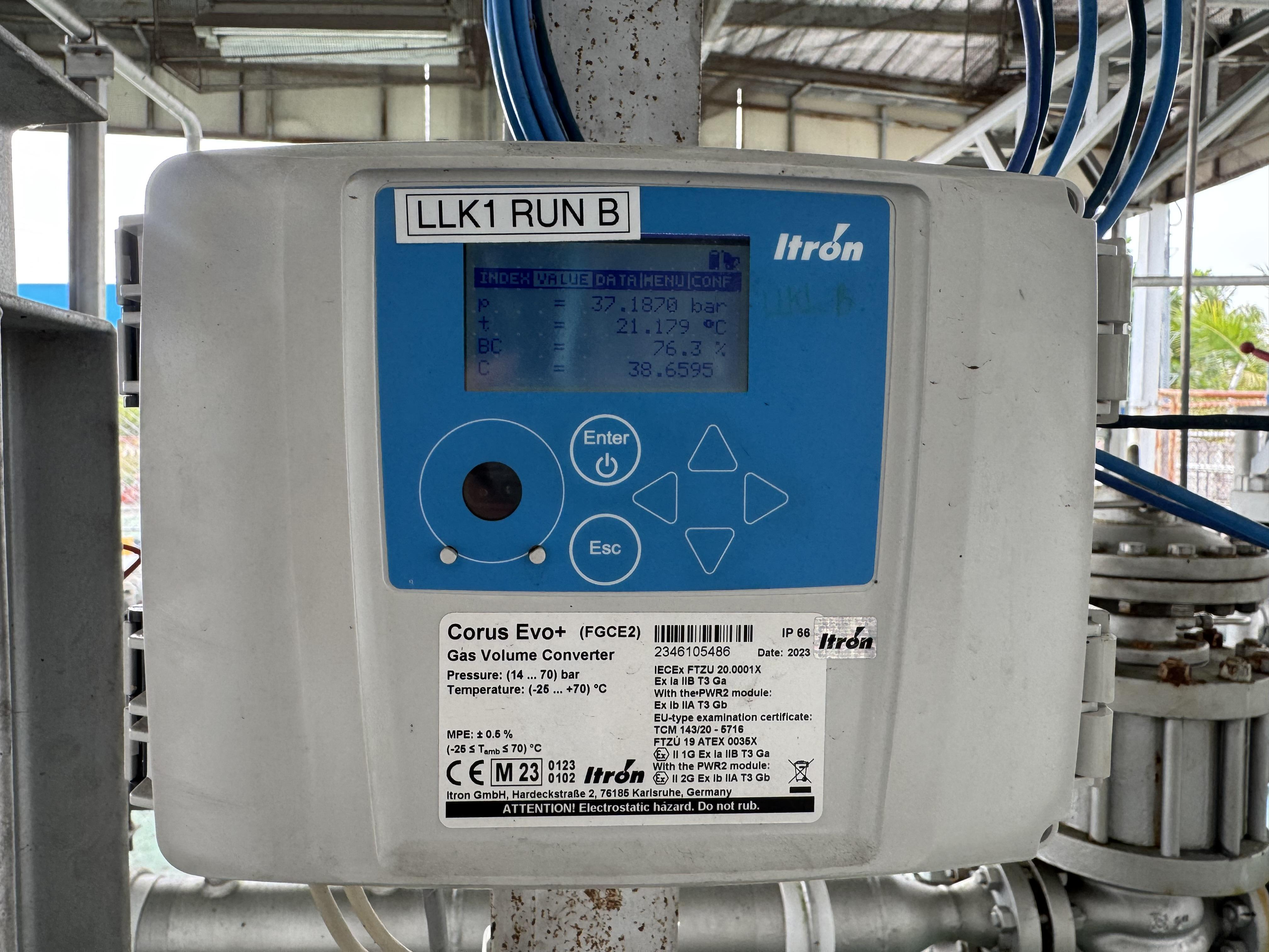digital_screen: (464, 234, 750, 393)
